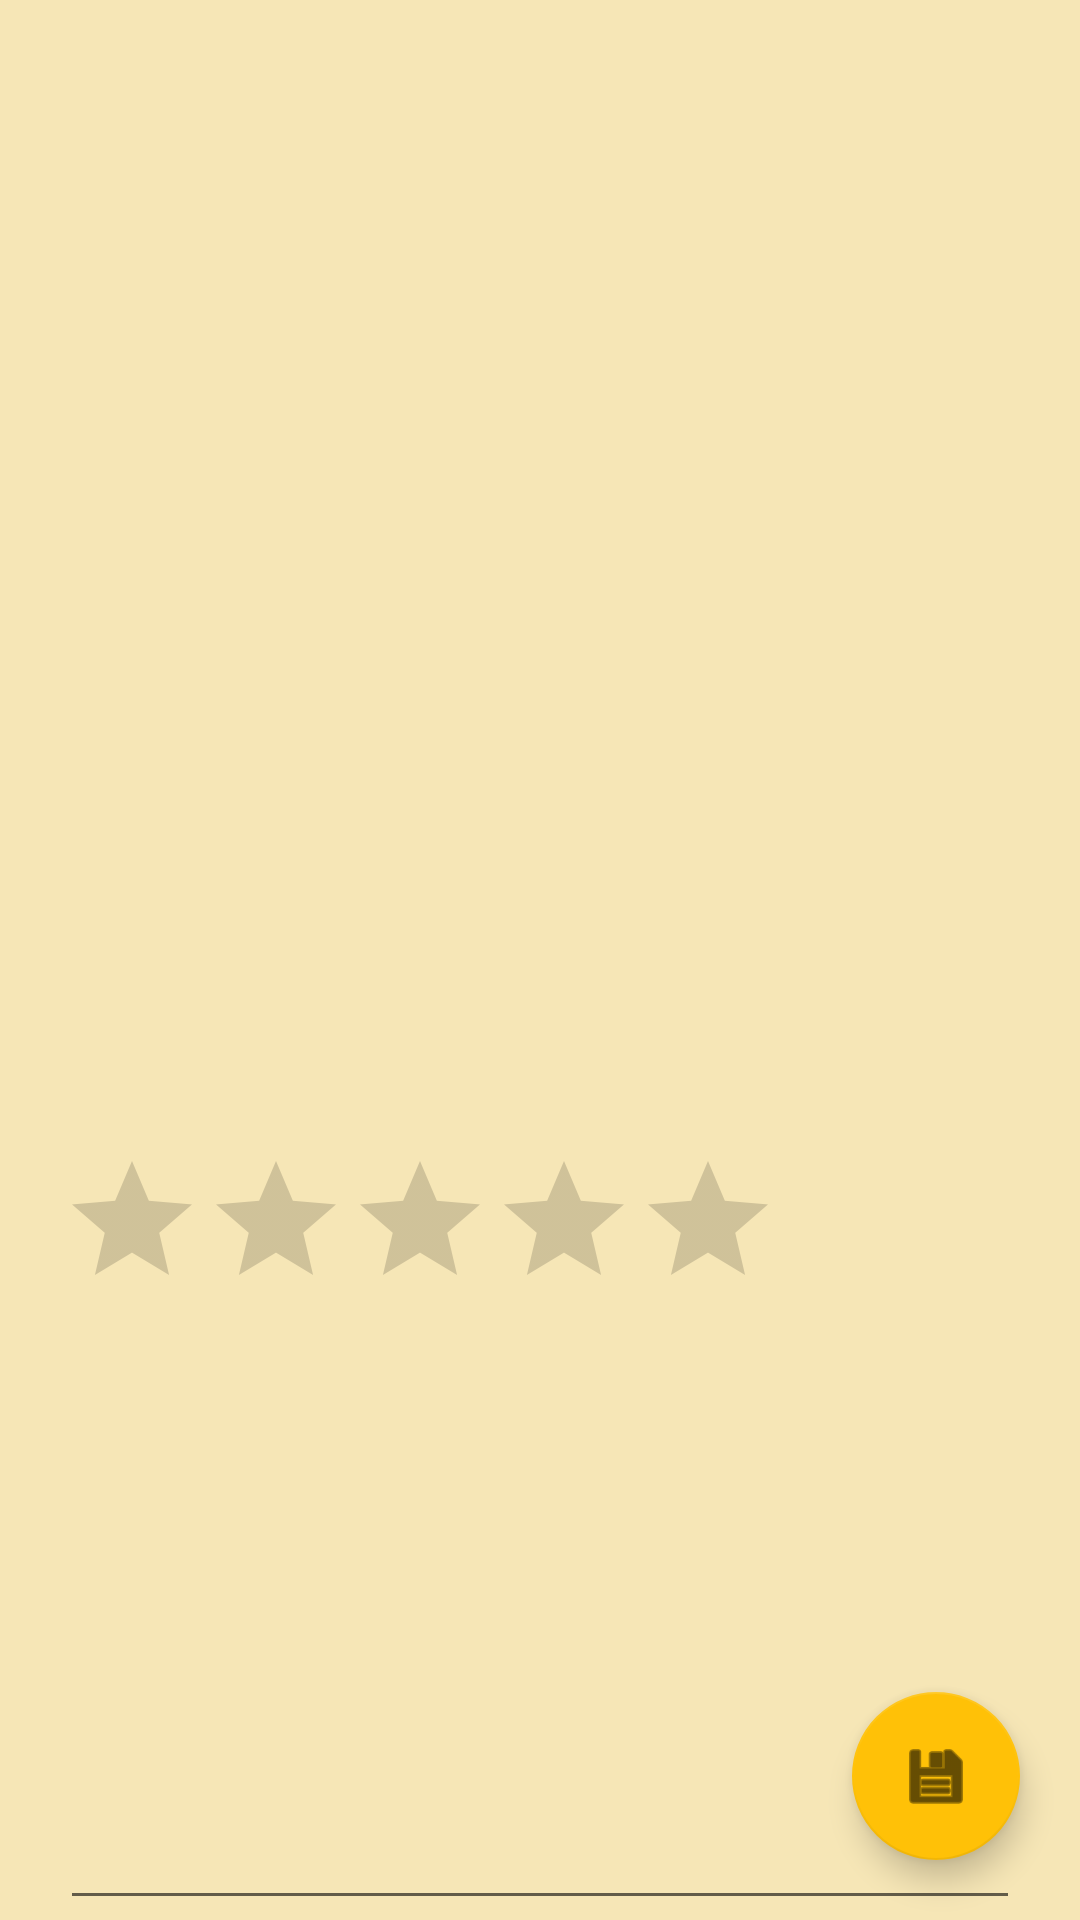

Named icons in this screenshot (1080*1920) and their centers, (x,y):
save: (936,1776)
